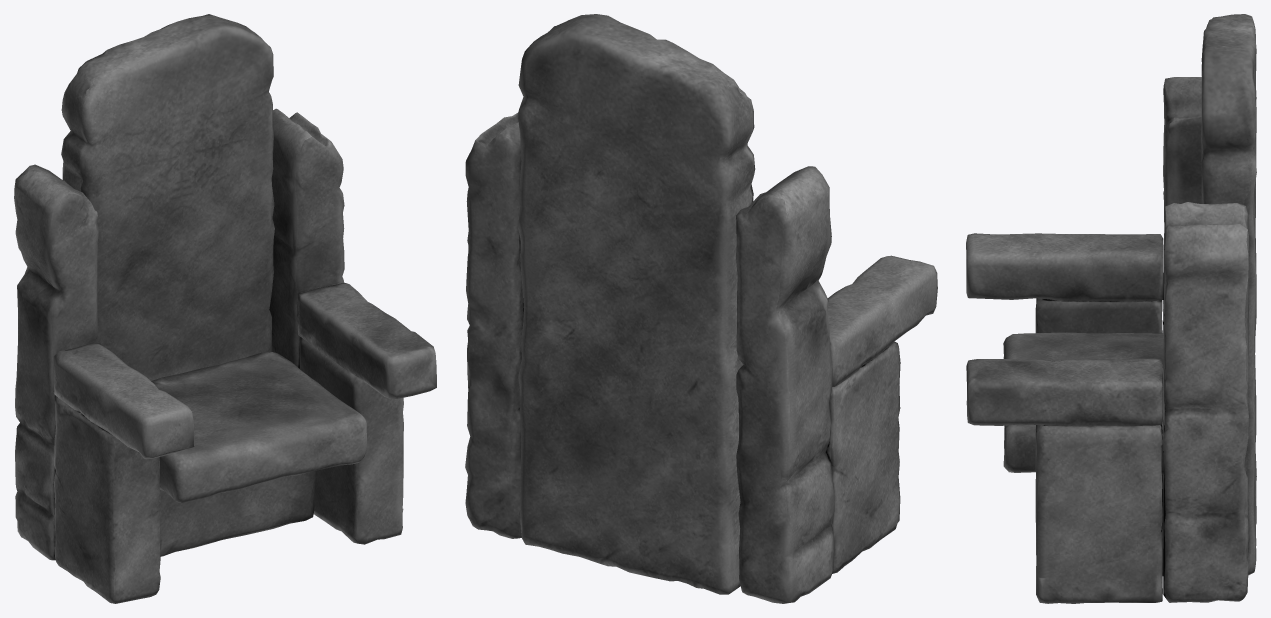
The model's file is throne.glb.
The picture shows the model from 3 angles, left to right: view 1: azimuth 30°, elevation 25°; view 2: azimuth 150°, elevation 25°; view 3: azimuth 270°, elevation 25°; orthographic projection. The views are drawn at different scales.
Visible parts, largest first — view 1: Trono_RT; view 2: Trono_RT; view 3: Trono_RT.
Part boxes in pixels (box(x1,y1,x2,y2)): Trono_RT: box(14, 14, 436, 603); Trono_RT: box(465, 14, 937, 603); Trono_RT: box(966, 14, 1256, 603).
Size of the model in its own units: 128 by 197 by 104.
1 material, 1 textured.
